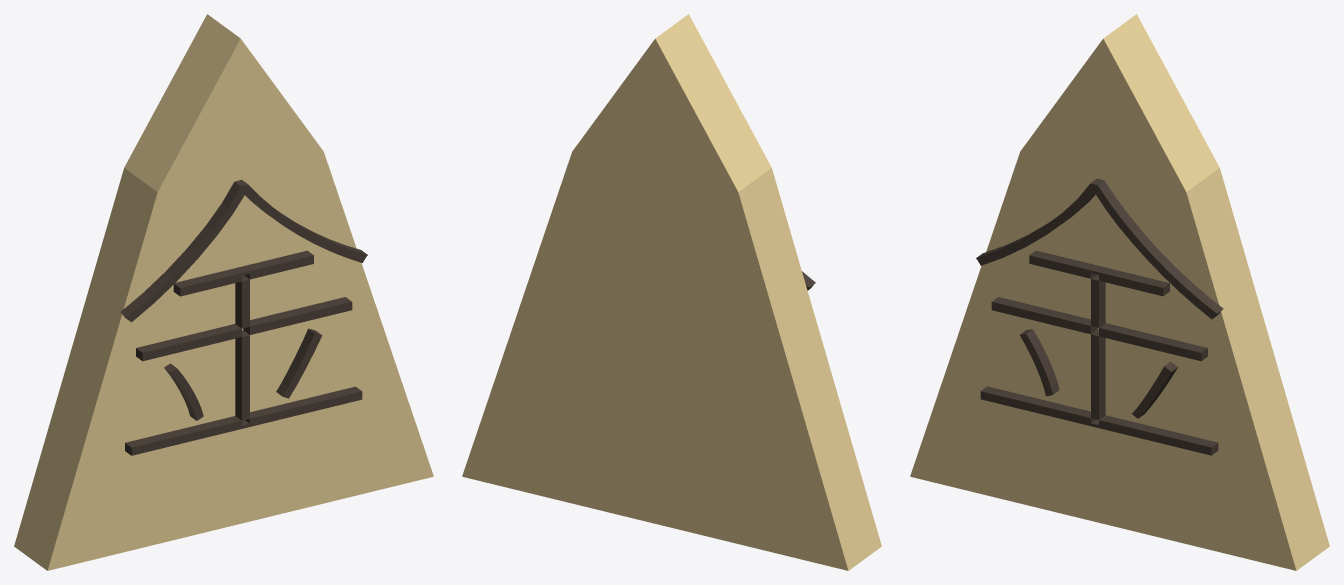
Rendered from koma-kin.glb.
3 views of the same model, side by side, from view 1: azimuth 30°, elevation 25°; view 2: azimuth 150°, elevation 25°; view 3: azimuth 330°, elevation 25° (orthographic).
Parts seen in each view (by area): view 1: world; view 2: world; view 3: world.
Boxes of the visible parts, x1,y1,x2,y2 form: world: (14, 14, 433, 570); world: (462, 14, 881, 570); world: (910, 14, 1329, 570).
Size of the model in its own units: 2 by 2.4 by 0.36.
